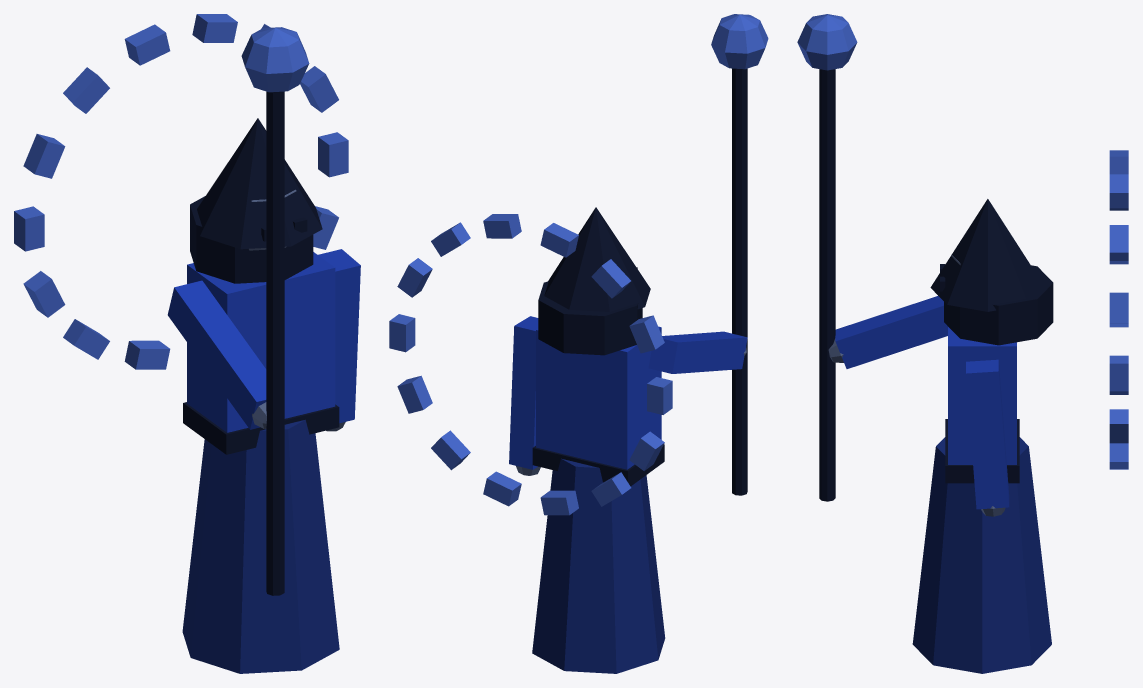
The model's file is SM_Champion_9011_Myna.glb.
The picture shows the model from 3 angles, left to right: view 1: azimuth 30°, elevation 25°; view 2: azimuth 150°, elevation 25°; view 3: azimuth 270°, elevation 25°; orthographic projection. The views are drawn at different scales.
Visible parts, largest first — view 1: SM_Champion_9011_Myna; view 2: SM_Champion_9011_Myna; view 3: SM_Champion_9011_Myna.
Part boxes in pixels (bbox=[...]): SM_Champion_9011_Myna: bbox=[14, 14, 360, 673]; SM_Champion_9011_Myna: bbox=[389, 14, 768, 673]; SM_Champion_9011_Myna: bbox=[797, 14, 1128, 673].
Bounding box in the file's own units: 1.31 × 2.7 × 1.36.
